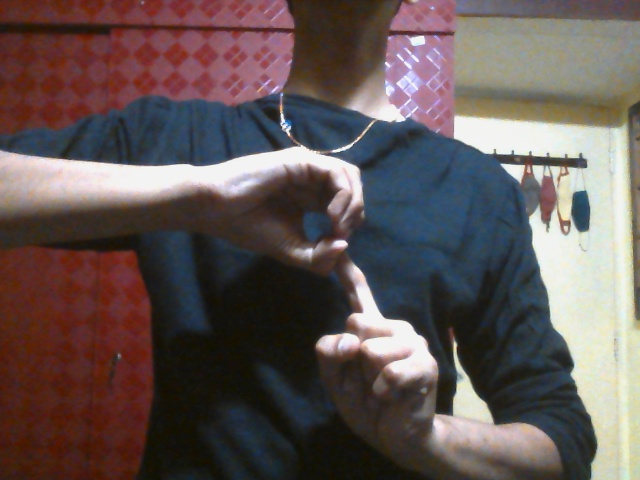Q: (221, 146, 439, 456)
